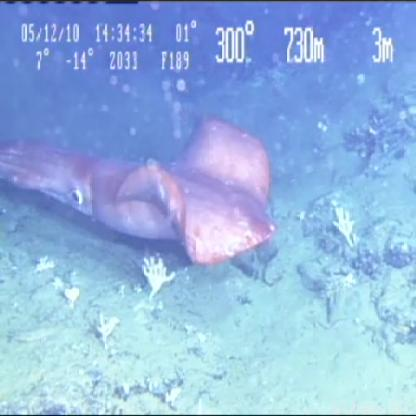Bio: (1, 112, 281, 268), (138, 254, 176, 302), (95, 311, 123, 351)
